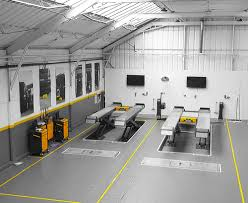Scissor Lift: (159, 105, 214, 158), (85, 101, 147, 142)
